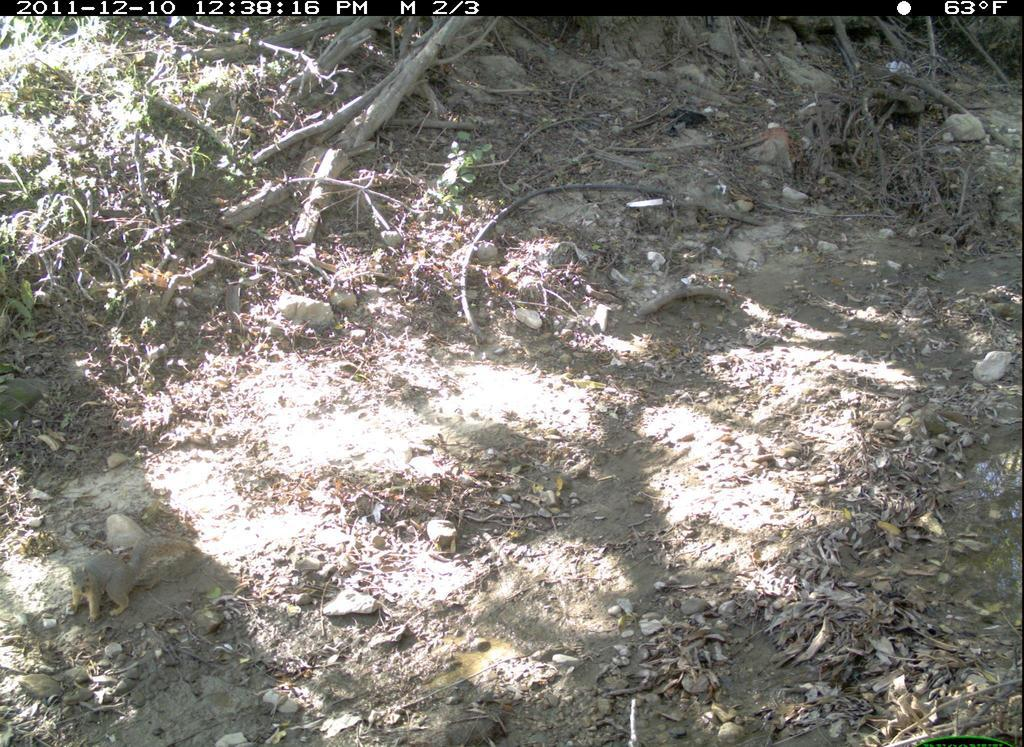squirrel: (70, 530, 198, 626)
